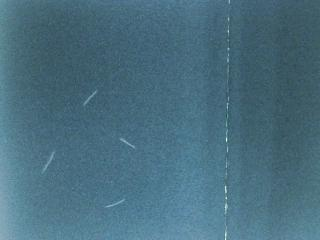crack: (216, 0, 239, 240)
scratch: (77, 86, 102, 110), (101, 195, 128, 214), (41, 151, 56, 175), (118, 136, 136, 149)
